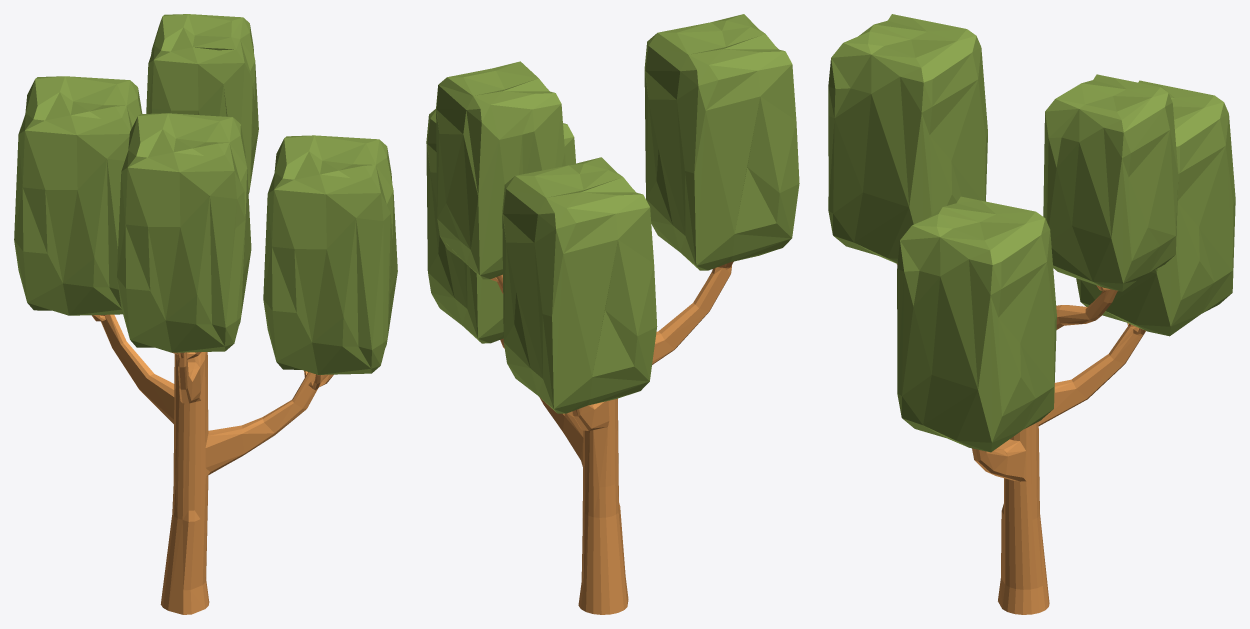
Rendered from box-canopy.glb.
3 views of the same model, side by side, from view 1: azimuth 30°, elevation 25°; view 2: azimuth 150°, elevation 25°; view 3: azimuth 270°, elevation 25° (orthographic). The views are drawn at different scales.
Parts seen in each view (by area): view 1: model; view 2: model; view 3: model.
Part boxes in pixels (bbox=[...]): model: bbox=[14, 14, 397, 614]; model: bbox=[426, 14, 799, 614]; model: bbox=[828, 14, 1235, 614].
Bounding box in the file's own units: 0.5603 × 0.8955 × 0.6128.
